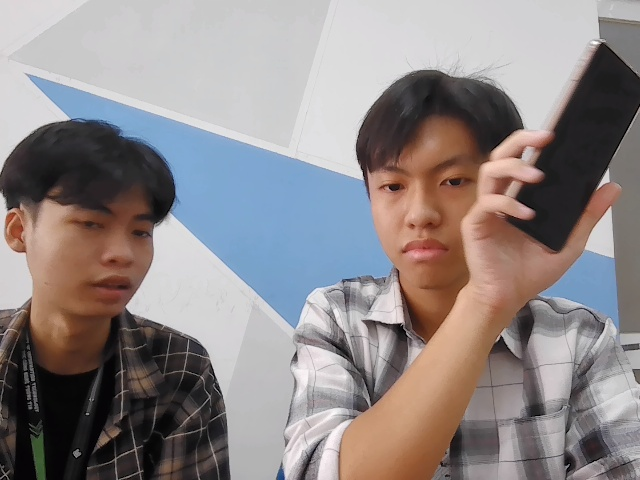human: (354, 66, 534, 292), (2, 113, 171, 331)
phone: (510, 22, 639, 279)
